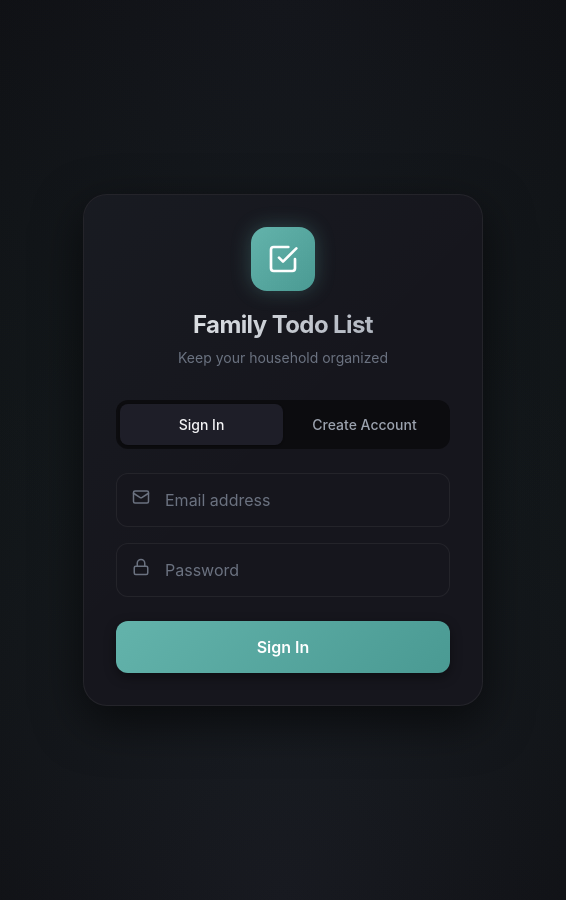
Test case: LoginPage › login submission › should show fallback error message when error has no message
Type "test@example.com" into the field with placeholder "Email address" at (283, 500), box x1=116 y1=473 x2=450 y2=527
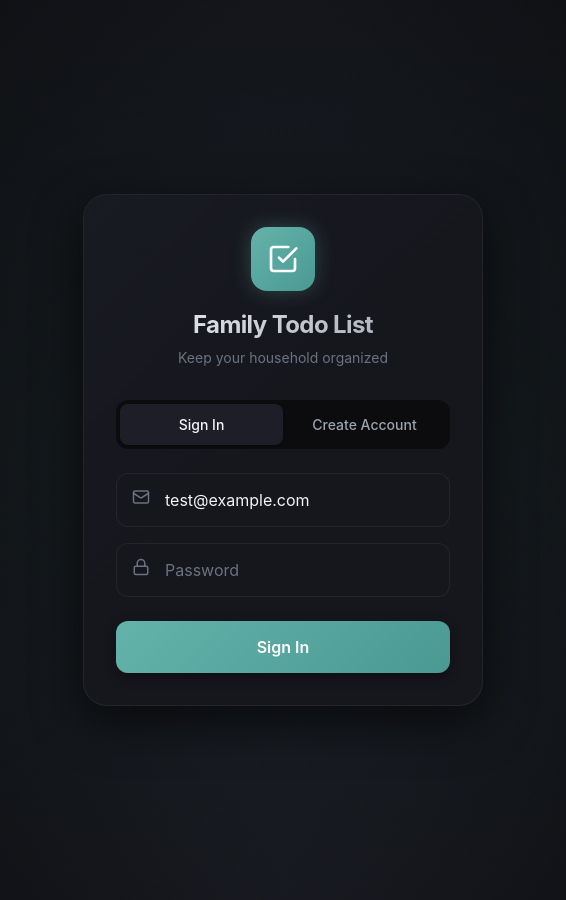
Type "password123" into the password field with placeholder "Password" at (283, 570), box x1=116 y1=543 x2=450 y2=597
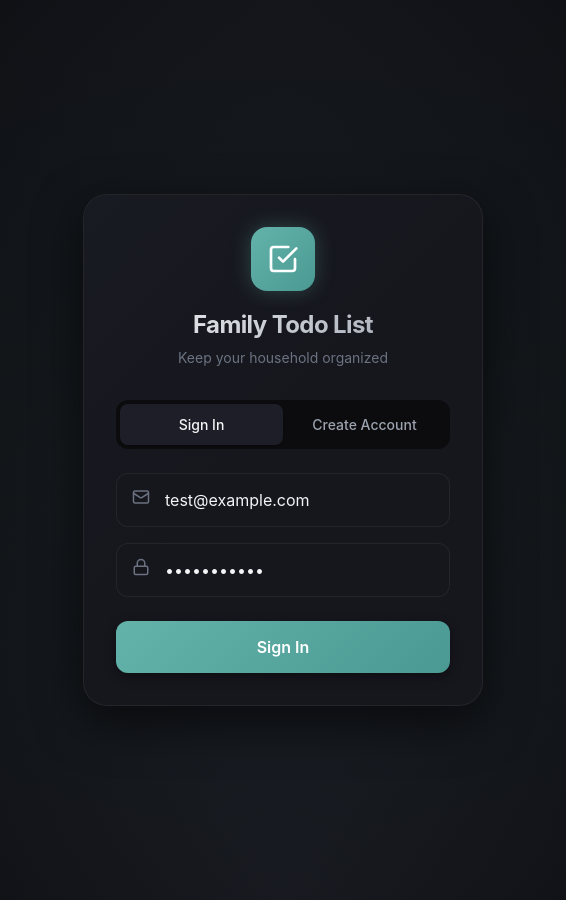
Click the 2nd button "Sign In" at (283, 647), box x1=116 y1=621 x2=450 y2=673
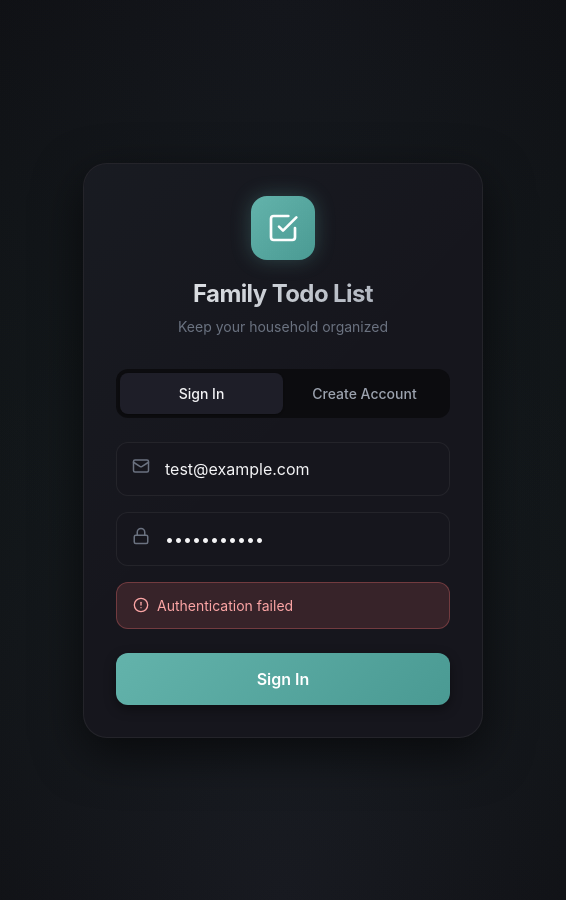
Now the text "Authentication failed" is shown, box x1=116 y1=582 x2=450 y2=628
